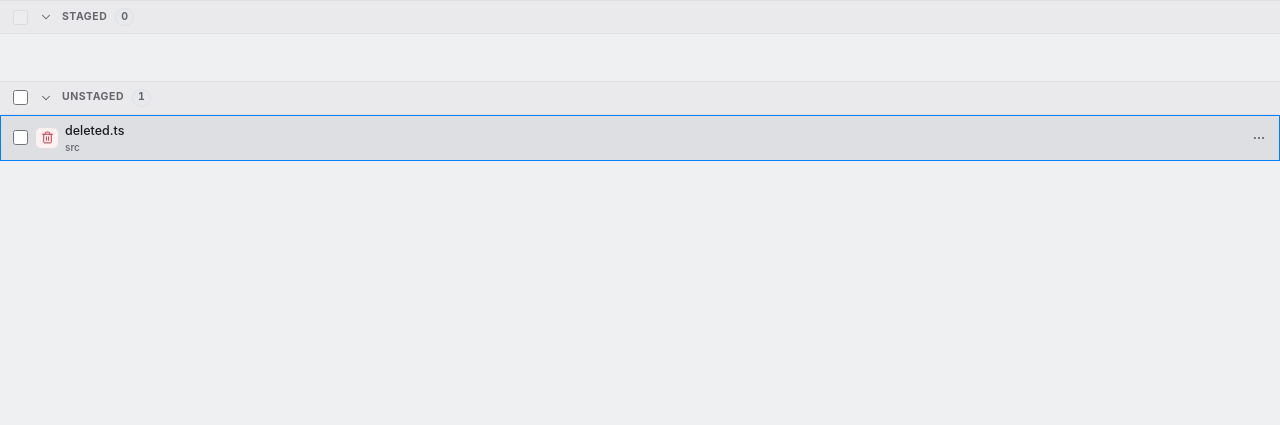
Scenario: DiffFileList file actions › applies file action restrictions to a deleted row
Step 1. Click the button named "More actions for src/deleted.ts" → (1259, 138), box [1246,125,1272,151]
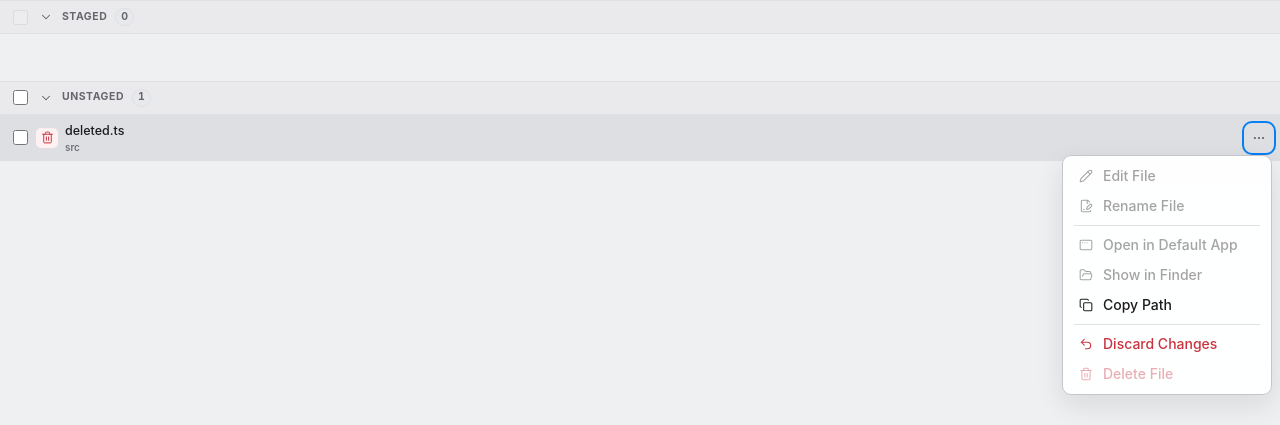
expect the menu item "Open in Default App" is disabled: met, box [1068,230,1266,260]
expect the menu item "Show in Finder" is disabled: met, box [1068,260,1266,290]
expect the menu item "Copy Path" is enabled: met, box [1068,290,1266,320]
